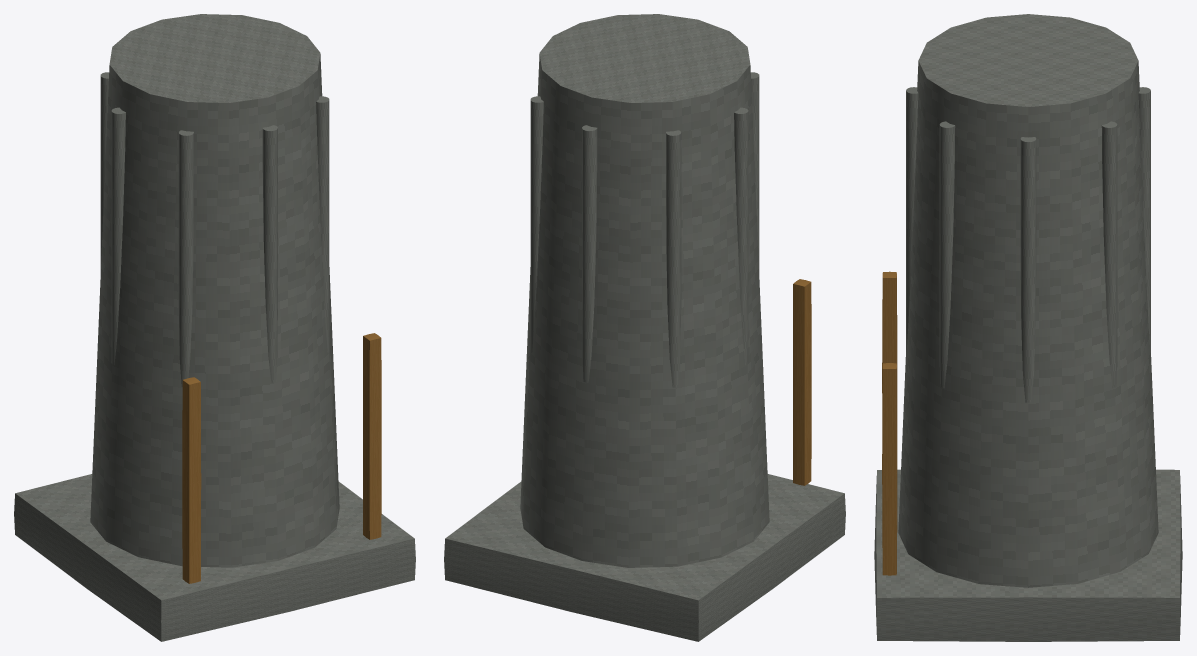
3 views of the same model, side by side, from view 1: azimuth 30°, elevation 25°; view 2: azimuth 150°, elevation 25°; view 3: azimuth 270°, elevation 25° (orthographic). The views are drawn at different scales.
Visible parts, largest first — view 1: stone.0, stone.9, brass.10, brass.11, stone.4, stone.3, stone.5, stone.2, stone.6; view 2: stone.0, stone.9, brass.10, stone.6, stone.7, stone.5, stone.8, stone.4; view 3: stone.0, stone.9, stone.1, stone.2, stone.8, brass.11, stone.3, stone.7, brass.10.
Part boxes in pixels (bbox=[...]): stone.0: bbox=[90, 14, 339, 567]; stone.9: bbox=[14, 474, 415, 641]; brass.10: bbox=[182, 377, 201, 583]; brass.11: bbox=[363, 333, 381, 539]; stone.4: bbox=[178, 130, 193, 386]; stone.3: bbox=[262, 125, 277, 382]; stone.5: bbox=[111, 107, 125, 364]; stone.2: bbox=[316, 96, 329, 352]; stone.6: bbox=[100, 72, 109, 271]; stone.0: bbox=[520, 14, 769, 567]; stone.9: bbox=[444, 474, 845, 641]; brass.10: bbox=[793, 279, 811, 485]; stone.6: bbox=[666, 130, 681, 387]; stone.7: bbox=[582, 125, 597, 382]; stone.5: bbox=[734, 107, 748, 364]; stone.8: bbox=[530, 96, 543, 352]; stone.4: bbox=[750, 72, 759, 271]; stone.0: bbox=[898, 14, 1158, 587]; stone.9: bbox=[874, 469, 1182, 641]; stone.1: bbox=[1020, 137, 1036, 402]; stone.2: bbox=[939, 121, 955, 388]; stone.8: bbox=[1101, 121, 1117, 388]; brass.11: bbox=[882, 363, 897, 575]; stone.3: bbox=[906, 87, 918, 351]; stone.7: bbox=[1138, 87, 1150, 351]; brass.10: bbox=[882, 271, 897, 405].
Bounding box in the file's own units: 0.7 × 1.3 × 0.7.
2 materials, 2 textured.
